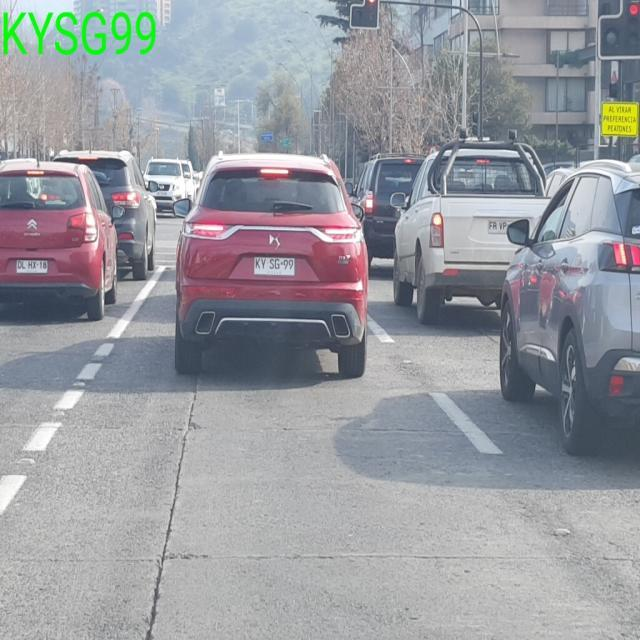Ad-signs: (599, 101, 638, 137)
Car: (171, 150, 369, 378), (497, 163, 639, 455), (0, 157, 118, 321)
Pickup: (389, 130, 556, 324)
Traffic-light: (596, 0, 639, 60), (348, 0, 379, 29)
